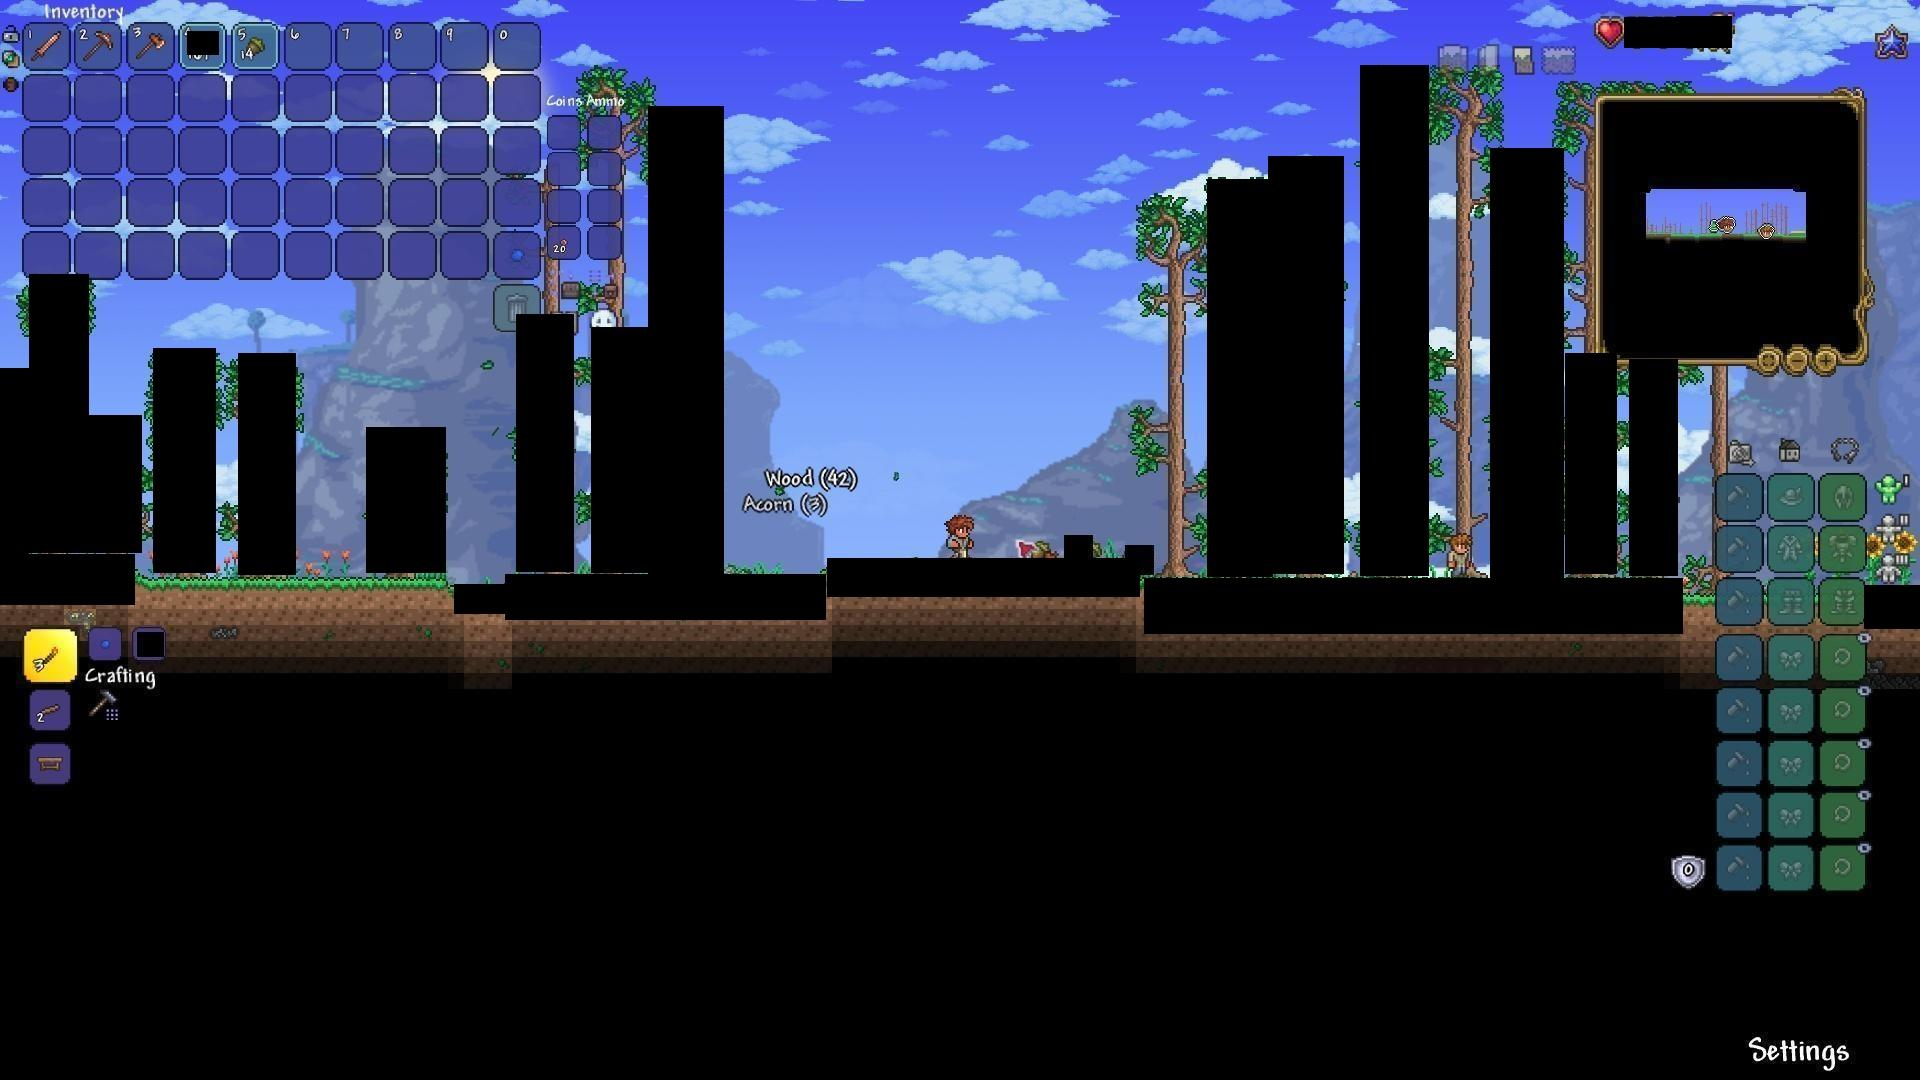dirt: (140, 576, 448, 617)
heart: (1597, 15, 1627, 45)
tree: (1428, 69, 1490, 576), (1139, 189, 1211, 574)
workbench: (32, 752, 65, 775)
